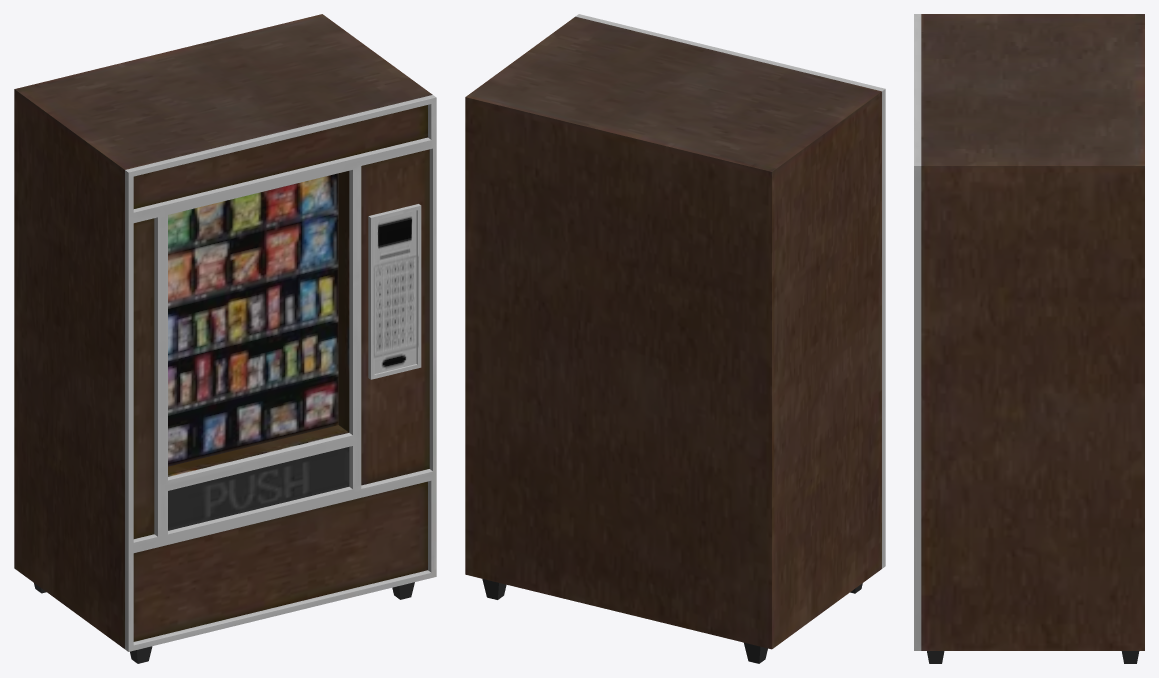
File: vending.glb
3 views of the same model, side by side, from view 1: azimuth 30°, elevation 25°; view 2: azimuth 150°, elevation 25°; view 3: azimuth 270°, elevation 25° (orthographic).
Visible parts, largest first — view 1: Object_6, Object_9, Object_4; view 2: Object_6, Object_4; view 3: Object_6, Object_4.
Boxes of the visible parts, x1=… form: Object_6: x1=14, y1=14, x2=436, y2=651; Object_9: x1=168, y1=204, x2=421, y2=530; Object_4: x1=34, y1=582, x2=414, y2=663; Object_6: x1=465, y1=14, x2=885, y2=649; Object_4: x1=482, y1=579, x2=862, y2=663; Object_6: x1=914, y1=14, x2=1144, y2=650; Object_4: x1=927, y1=651, x2=1139, y2=663.
Size of the model in its own units: 1.19 by 1.85 by 0.7636.
Materials: 3 (2 with a texture image).
